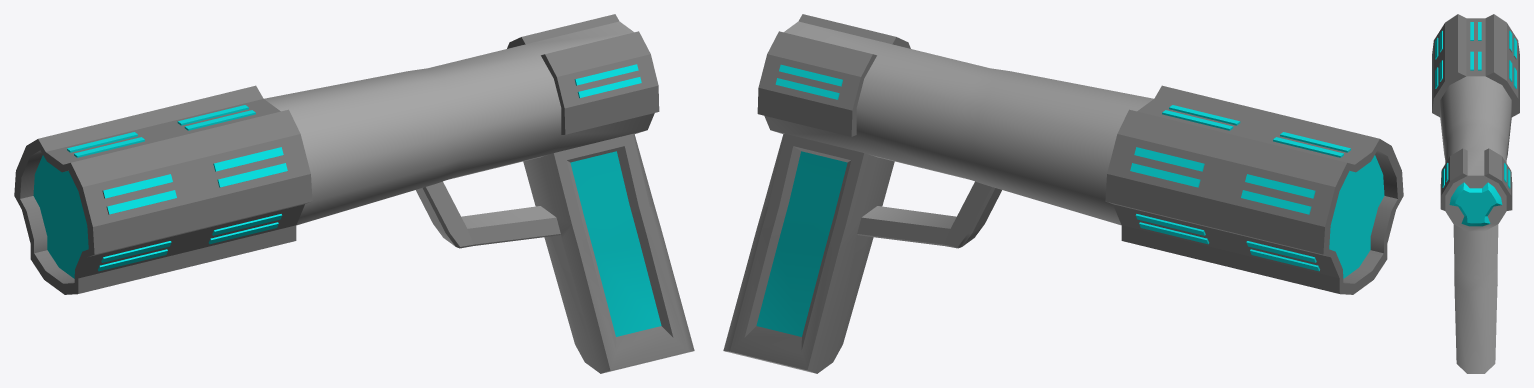
Rendered from SM_FlashGun.fbx.
3 views of the same model, side by side, from view 1: azimuth 30°, elevation 25°; view 2: azimuth 150°, elevation 25°; view 3: azimuth 270°, elevation 25° (orthographic). The views are drawn at different scales.
Visible parts, largest first — view 1: pCylinder1; view 2: pCylinder1; view 3: pCylinder1.
Part boxes in pixels (x1=…): pCylinder1: x1=14, y1=14, x2=694, y2=373; pCylinder1: x1=723, y1=14, x2=1403, y2=373; pCylinder1: x1=1432, y1=14, x2=1519, y2=373.
Bounding box in the file's own units: 134 × 70.58 × 29.44.
